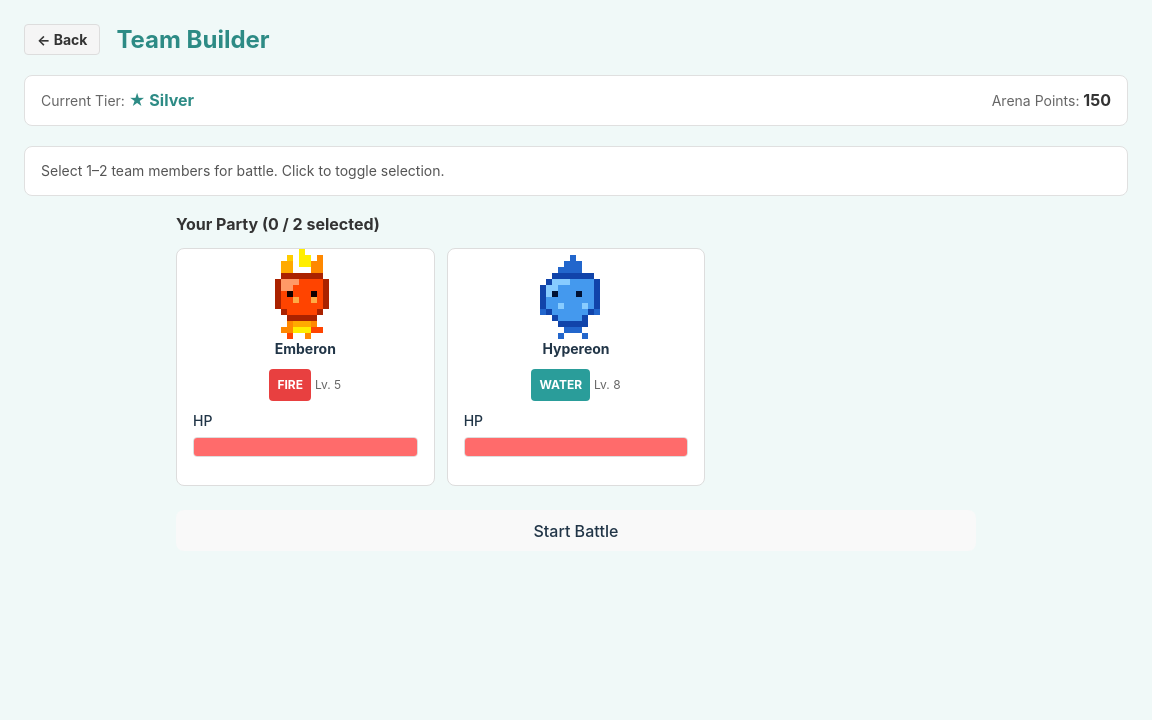
Scenario: TeamBuilder › allows selecting up to 2 members
Click the element showing "Emberon Fire Lv. 5 HP". click: (305, 367)
box: 176,248 -> 435,486
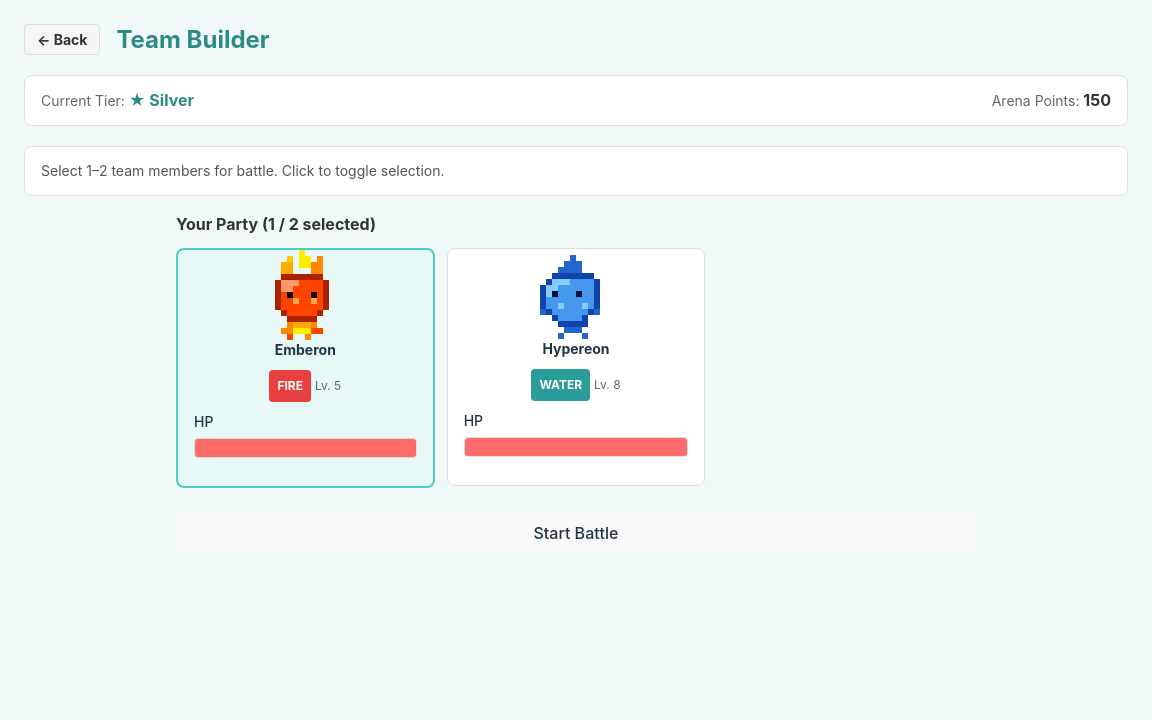
Click the element showing "Hypereon Water Lv. 8 HP". click: (576, 368)
box: 447,248 -> 705,488
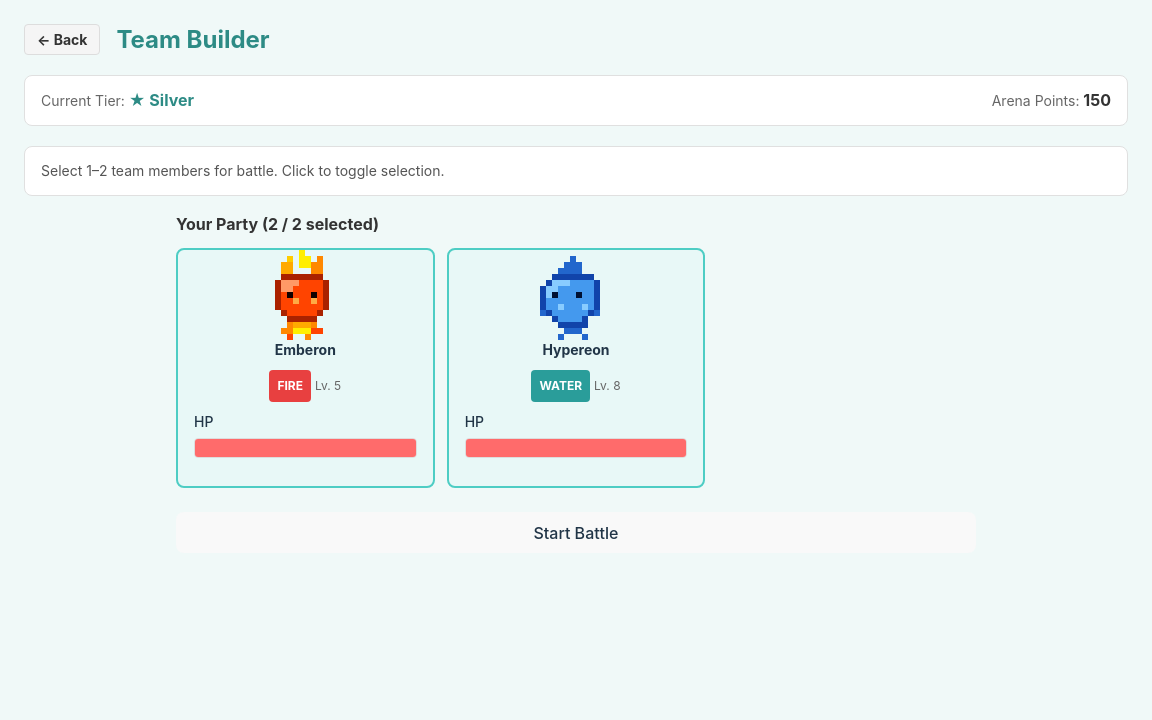
Check: the text "2 / 2 selected" is shown, box 176,214 -> 379,234
